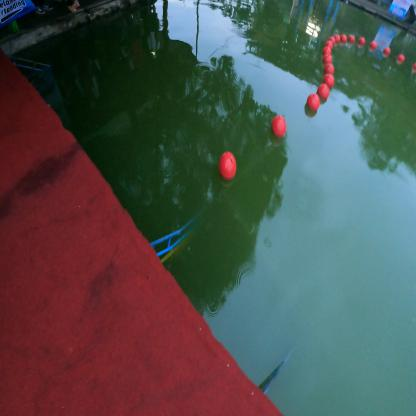red_buoy: (218, 150, 237, 179), (271, 114, 287, 138), (306, 93, 320, 110), (318, 82, 330, 98), (324, 72, 335, 84), (325, 64, 335, 73)
